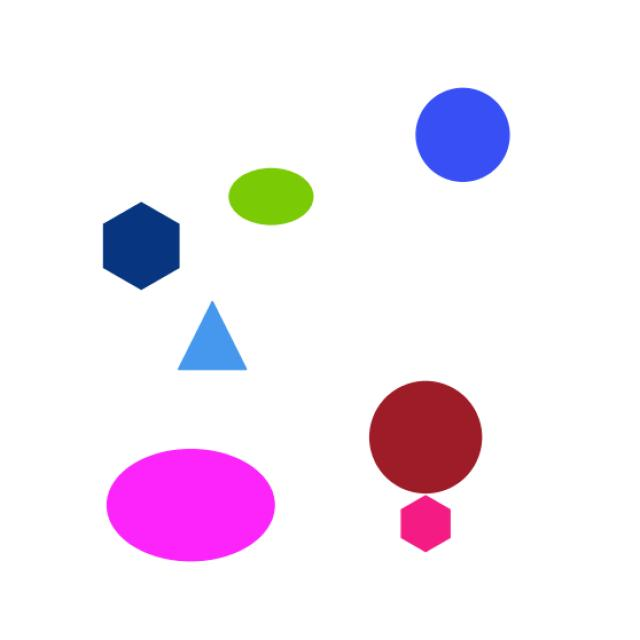Circle: (360, 372, 497, 508), (406, 80, 522, 189)
Hexagon: (88, 187, 194, 302), (386, 481, 467, 568)
Oval: (98, 425, 278, 574), (215, 162, 321, 232)
Triangle: (162, 296, 260, 376)
